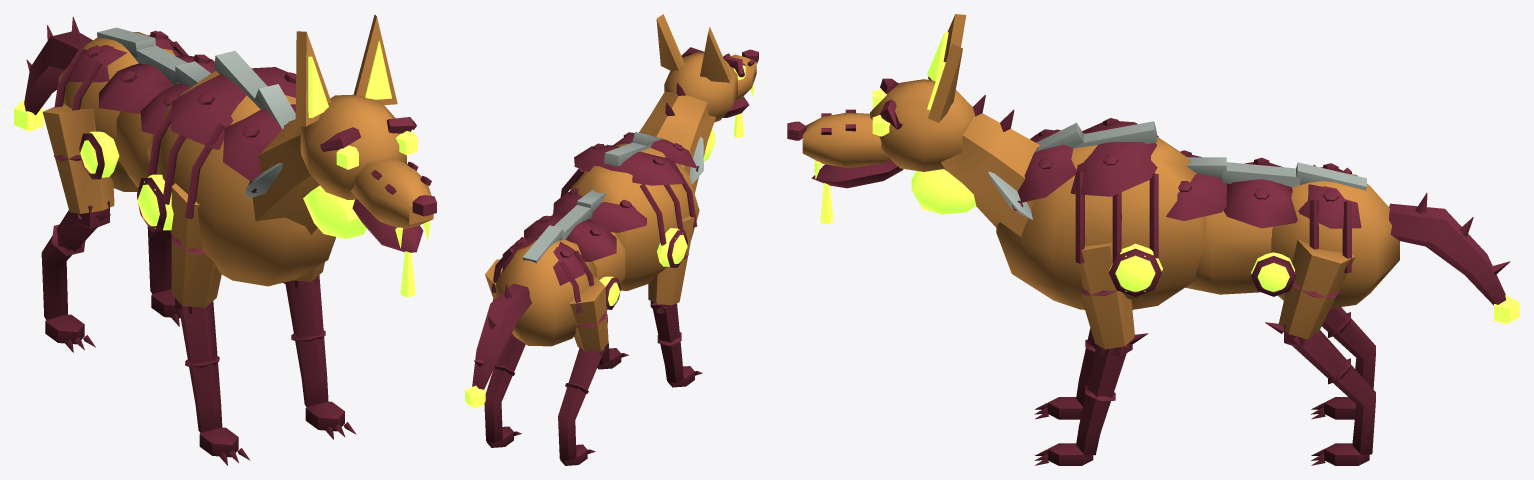
Rendered from acidhound.glb.
The picture shows the model from 3 angles, left to right: view 1: azimuth 30°, elevation 25°; view 2: azimuth 150°, elevation 25°; view 3: azimuth 270°, elevation 25°; orthographic projection. The views are drawn at different scales.
Parts seen in each view (by area): view 1: Torso, Back_plate, Skull, Plate_crest, Upper_leg.003, Neck, Upper_leg, Muzzle, Shin, Shin.001, Hide_stripes, Ear (+20 smaller); view 2: Torso, Back_plate, Neck, Tail, Plate_crest, Skull, Shin.003, Hide_stripes, Upper_leg.003, Shin.002, Ear, Upper_leg (+8 smaller); view 3: Torso, Back_plate, Neck, Skull, Plate_crest, Tail, Upper_leg.002, Upper_leg.001, Muzzle, Hide_stripes, Shin.002, Shin.001 (+9 smaller).
Boxes of the visible parts, x1,y1,x2,y2 form: Torso: [58, 32, 335, 286]; Back_plate: [68, 35, 295, 180]; Skull: [300, 94, 406, 199]; Plate_crest: [97, 27, 295, 129]; Upper_leg.003: [42, 103, 114, 213]; Neck: [252, 119, 319, 234]; Upper_leg: [171, 183, 221, 307]; Muzzle: [351, 157, 433, 229]; Shin: [179, 301, 222, 432]; Shin.001: [285, 275, 328, 406]; Hide_stripes: [54, 30, 224, 218]; Ear: [295, 14, 397, 126]; Torso: [496, 143, 699, 346]; Back_plate: [502, 135, 697, 285]; Neck: [639, 91, 715, 193]; Tail: [472, 283, 531, 389]; Plate_crest: [522, 132, 664, 263]; Skull: [664, 52, 737, 122]; Shin.003: [558, 346, 605, 460]; Hide_stripes: [491, 144, 697, 313]; Upper_leg.003: [569, 275, 608, 352]; Shin.002: [484, 334, 525, 442]; Ear: [656, 14, 731, 82]; Upper_leg: [648, 215, 694, 305]; Torso: [996, 133, 1399, 309]; Back_plate: [1017, 121, 1361, 228]; Neck: [941, 113, 1039, 236]; Skull: [870, 79, 974, 171]; Plate_crest: [1034, 121, 1366, 190]; Tail: [1389, 203, 1506, 305]; Upper_leg.002: [1278, 239, 1355, 339]; Upper_leg.001: [1075, 243, 1134, 349]; Muzzle: [802, 113, 890, 167]; Hide_stripes: [1075, 135, 1351, 273]; Shin.002: [1293, 330, 1375, 455]; Shin.001: [1076, 345, 1128, 455].
Bounding box in the file's own units: 0.4624 × 1.13 × 1.8.
